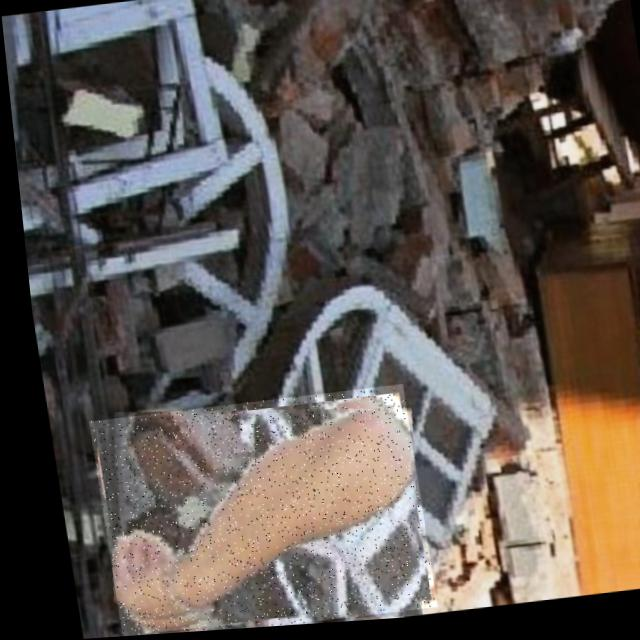Person in Rubble: (77, 389, 423, 638)
